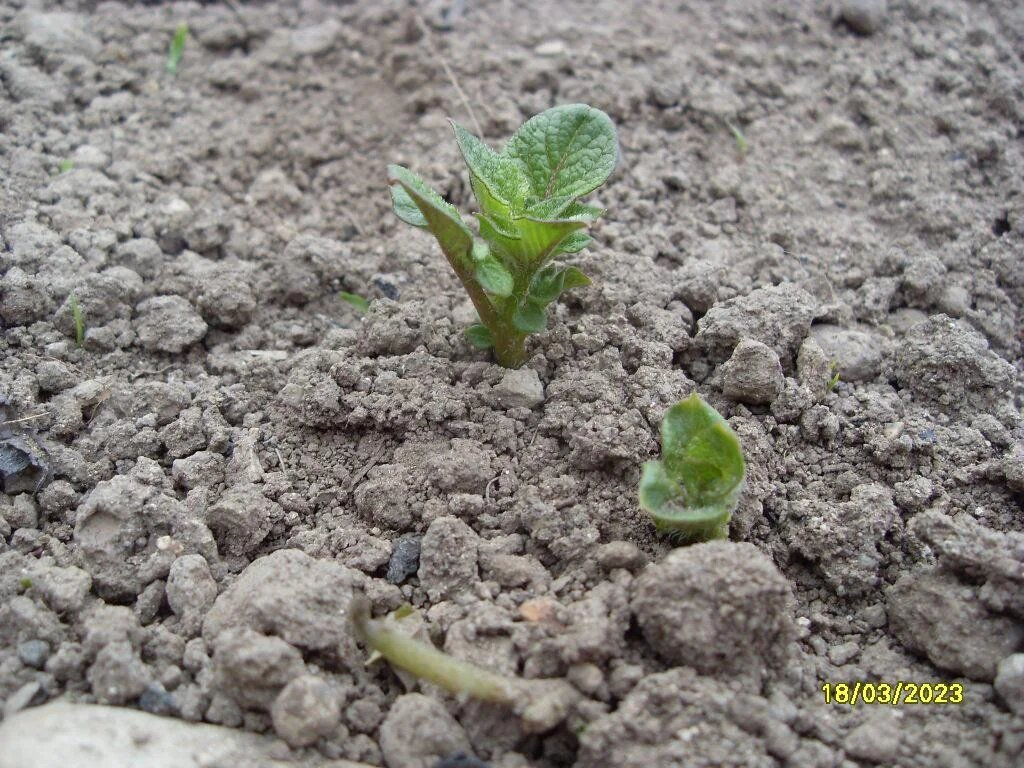potato_plant: (379, 102, 621, 359)
